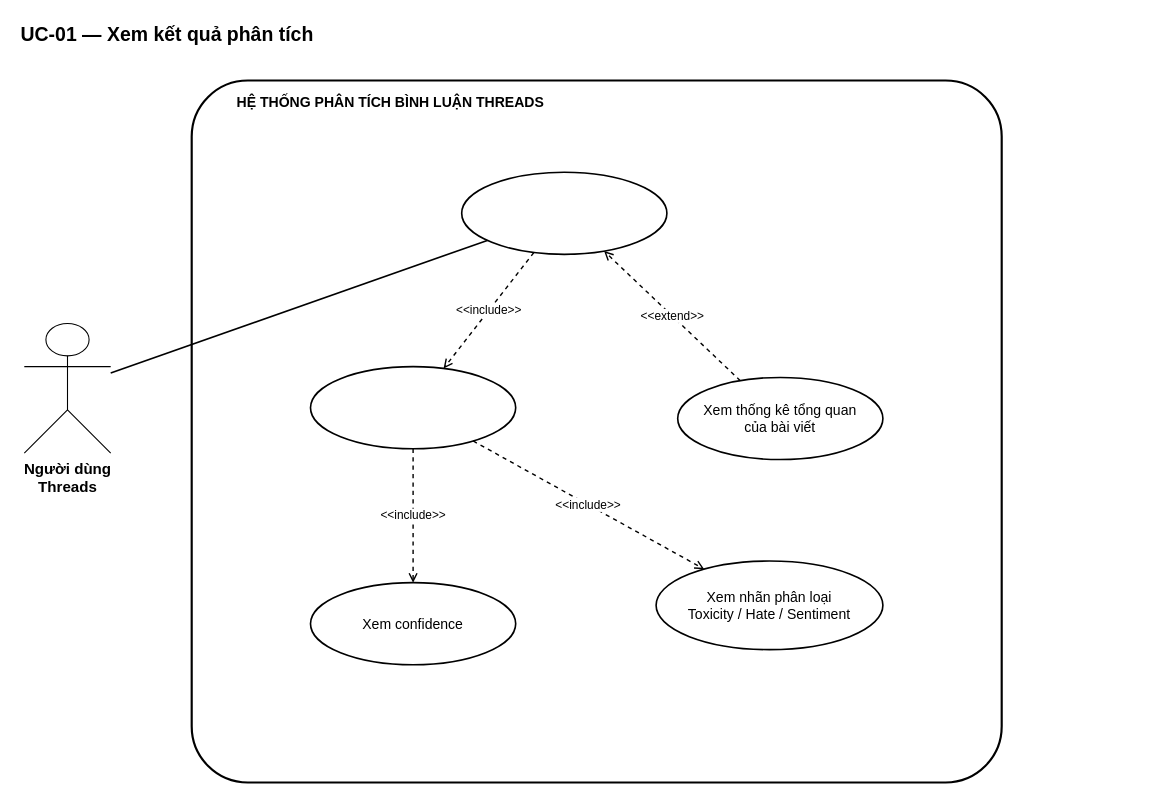
Some shapes in this 1171 by 801 pixel diagram are drawn without their labels. The centre of each missing label's shape, as x and y in pixels:
Xem kết quả phân tích: point 563,213
Xem kết quả từng bình luận: point 412,407
